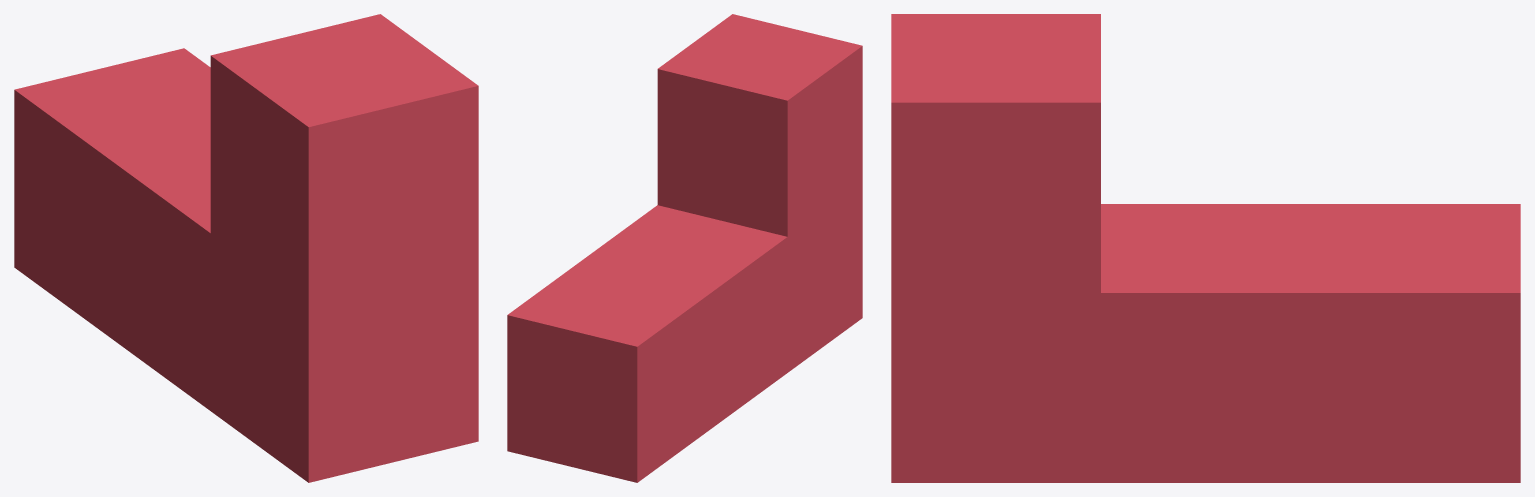
The model's file is Block5.fbx.
3 views of the same model, side by side, from view 1: azimuth 30°, elevation 25°; view 2: azimuth 150°, elevation 25°; view 3: azimuth 270°, elevation 25° (orthographic). The views are drawn at different scales.
Parts seen in each view (by area): view 1: Cube.001; view 2: Cube.001; view 3: Cube.001.
Boxes of the visible parts, bbox=[...] form: Cube.001: bbox=[14, 14, 478, 482]; Cube.001: bbox=[507, 14, 862, 482]; Cube.001: bbox=[891, 14, 1520, 482].
Bounding box in the file's own units: 200 × 400 × 600.
